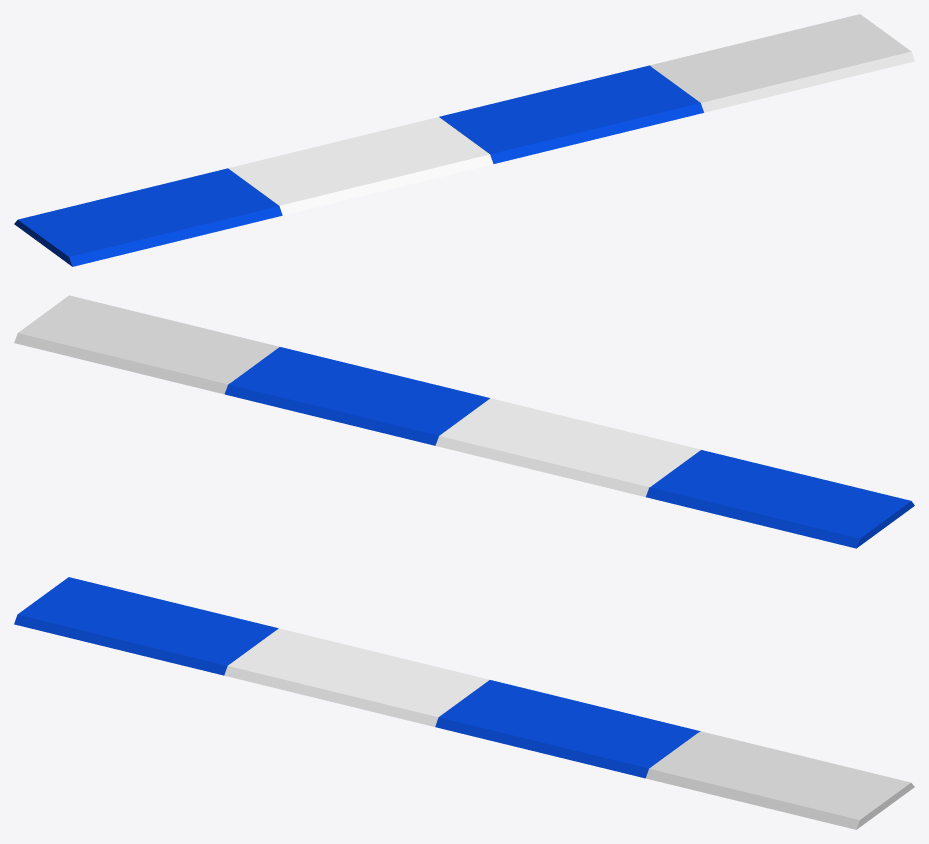
File: roadCornerLargeblue4.fbx
3 renders of one model, top to bottom at view 1: azimuth 30°, elevation 25°; view 2: azimuth 150°, elevation 25°; view 3: azimuth 330°, elevation 25°, orthographic.
Visible parts, largest first — view 1: Cube.001, Cube, Cube.002, Cube.004; view 2: Cube.001, Cube, Cube.002, Cube.004; view 3: Cube.002, Cube, Cube.004, Cube.001.
Part boxes in pixels (bbox=[...]): Cube.001: bbox=[14, 168, 282, 266]; Cube: bbox=[228, 117, 493, 215]; Cube.002: bbox=[650, 14, 914, 112]; Cube.004: bbox=[439, 65, 703, 163]; Cube.001: bbox=[646, 450, 914, 548]; Cube: bbox=[435, 398, 701, 496]; Cube.002: bbox=[14, 295, 279, 394]; Cube.004: bbox=[224, 347, 489, 445]; Cube.002: bbox=[645, 731, 914, 829]; Cube: bbox=[224, 628, 489, 726]; Cube.004: bbox=[435, 680, 700, 778]; Cube.001: bbox=[14, 577, 278, 675].
Size of the model in its own units: 1661 by 13.87 by 200.
